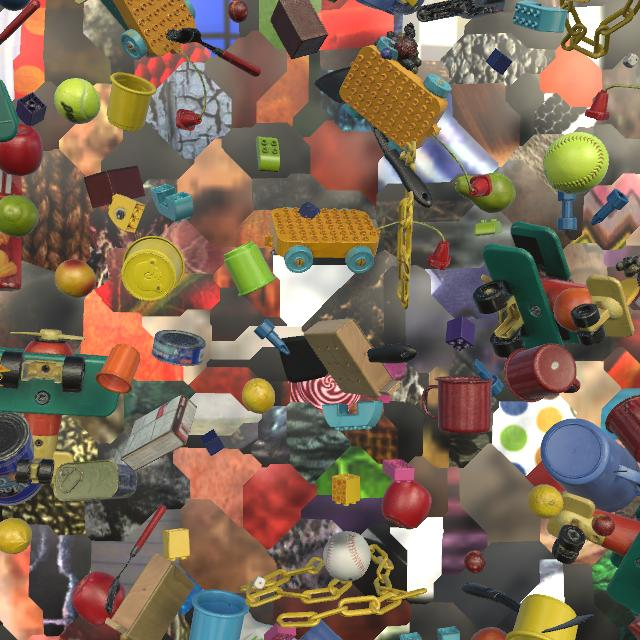ycb_002_master_chef_can: (0, 412, 43, 506)
ycb_003_cracker_box: (0, 170, 22, 291), (628, 615, 640, 640), (632, 287, 640, 310)
ycb_007_tuna_fish_can: (151, 330, 206, 366)
ycb_008_pudding_box: (120, 395, 197, 471)
ycb_010_potted_meat_can: (53, 460, 137, 502)
ycb_013_apple: (72, 571, 125, 626), (381, 480, 432, 530), (0, 124, 43, 176)
ycb_014_lemon: (527, 484, 563, 519), (242, 378, 275, 414), (0, 518, 32, 554)
ycb_015_peach: (54, 259, 96, 298)
ycb_016_pear: (454, 173, 516, 213), (0, 195, 39, 237)
ycb_017_orange: (554, 288, 592, 332), (471, 627, 507, 640)
